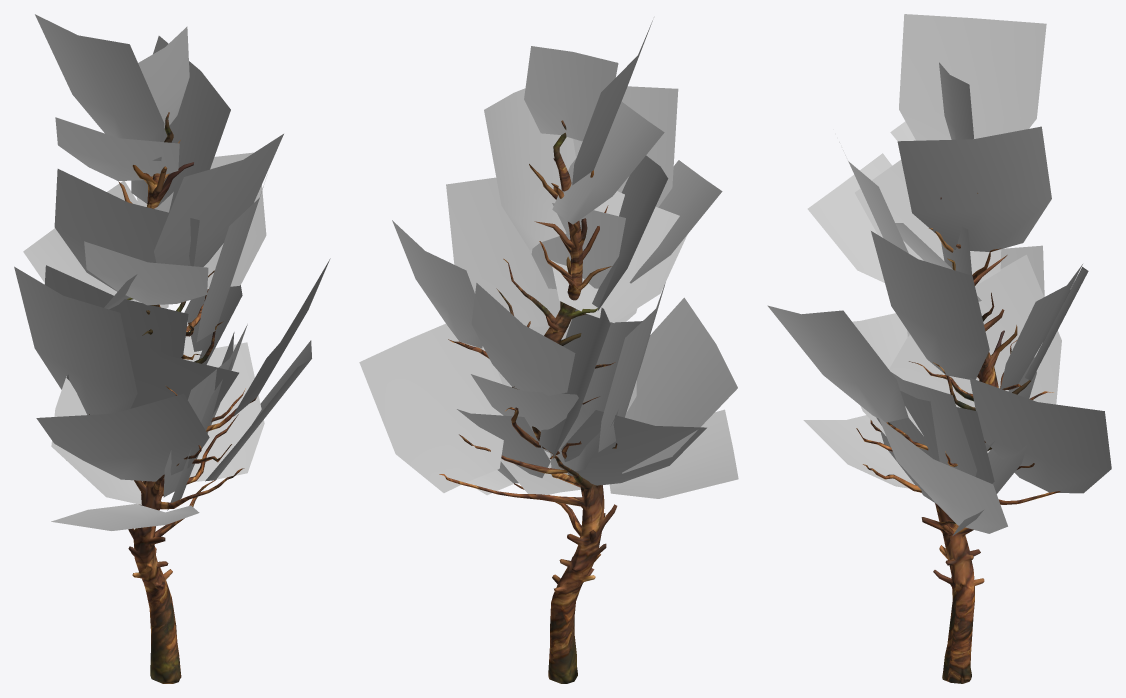
File: pineB.fbx
3 renders of one model, left to right at view 1: azimuth 30°, elevation 25°; view 2: azimuth 150°, elevation 25°; view 3: azimuth 270°, elevation 25°, orthographic. The views are drawn at different scales.
Parts seen in each view (by area): view 1: leaf32, leaf39, pineA1:Group7595, leaf45, leaf38, leaf37, leaf44, leaf43, leaf48, leaf52, leaf33, leaf34 (+11 smaller); view 2: leaf40, pineA1:Group7595, leaf39, leaf36, leaf44, leaf46, leaf49, leaf51, leaf55, leaf48, leaf54, leaf50 (+12 smaller); view 3: leaf45, leaf44, leaf40, leaf36, pineA1:Group7595, leaf35, leaf33, leaf56, leaf43, leaf54, leaf37, leaf42 (+11 smaller).
Boxes of the visible parts, bbox=[...] form: leaf32: bbox=[14, 266, 137, 414]; leaf39: bbox=[36, 393, 209, 481]; pineA1:Group7595: bbox=[89, 112, 256, 683]; leaf45: bbox=[35, 14, 164, 160]; leaf38: bbox=[154, 134, 283, 266]; leaf37: bbox=[54, 169, 199, 291]; leaf44: bbox=[131, 36, 230, 212]; leaf43: bbox=[84, 241, 208, 305]; leaf48: bbox=[55, 117, 179, 181]; leaf52: bbox=[190, 342, 264, 481]; leaf33: bbox=[44, 265, 188, 359]; leaf34: bbox=[66, 336, 238, 414]; leaf40: bbox=[359, 323, 503, 492]; pineA1:Group7595: bbox=[439, 120, 617, 683]; leaf39: bbox=[622, 297, 737, 473]; leaf36: bbox=[446, 177, 560, 327]; leaf44: bbox=[484, 88, 575, 250]; leaf46: bbox=[524, 46, 618, 141]; leaf49: bbox=[471, 283, 575, 395]; leaf51: bbox=[561, 410, 706, 485]; leaf55: bbox=[551, 191, 687, 322]; leaf48: bbox=[552, 101, 664, 224]; leaf54: bbox=[609, 409, 738, 498]; leaf50: bbox=[392, 220, 482, 348]; leaf45: bbox=[899, 14, 1046, 140]; leaf44: bbox=[897, 126, 1051, 251]; leaf40: bbox=[969, 378, 1111, 493]; leaf36: bbox=[871, 231, 989, 379]; pineA1:Group7595: bbox=[856, 193, 1060, 683]; leaf35: bbox=[767, 305, 908, 422]; leaf33: bbox=[943, 254, 1061, 407]; leaf56: bbox=[878, 417, 1007, 533]; leaf43: bbox=[807, 153, 892, 282]; leaf54: bbox=[803, 415, 914, 488]; leaf37: bbox=[855, 160, 1001, 285]; leaf42: bbox=[876, 391, 994, 503].
Size of the model in its own units: 494 by 998 by 492.
